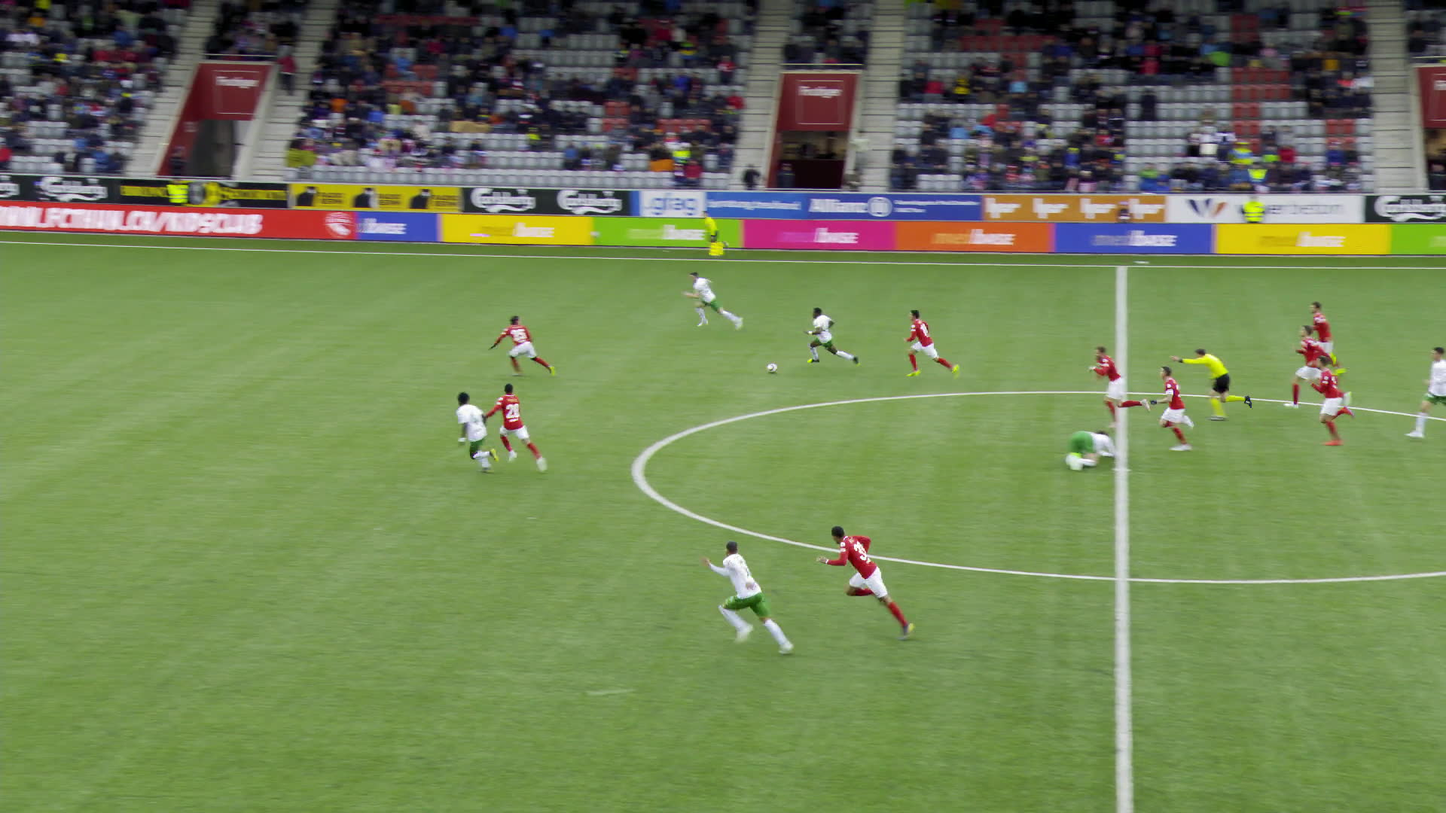ball: (764, 359, 776, 372)
player: (813, 524, 914, 638), (708, 536, 795, 654), (1293, 349, 1365, 446), (1064, 344, 1145, 428), (1140, 358, 1211, 452), (470, 384, 536, 475), (444, 385, 505, 477), (1279, 323, 1333, 408), (482, 312, 545, 379), (1402, 344, 1445, 442), (895, 306, 947, 384), (1295, 298, 1350, 367), (676, 269, 734, 333), (1049, 424, 1118, 472), (800, 304, 848, 370)
referee: (1159, 343, 1251, 422), (683, 207, 729, 257)
